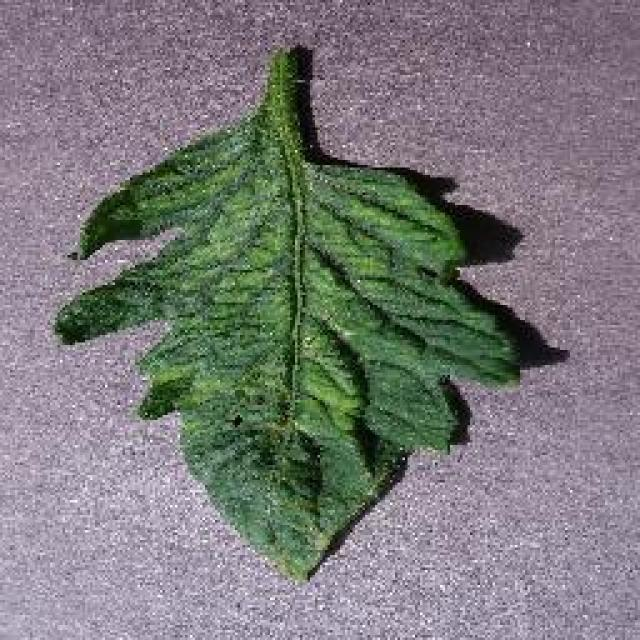Tomato spider mites leaf: (56, 134, 526, 584)
